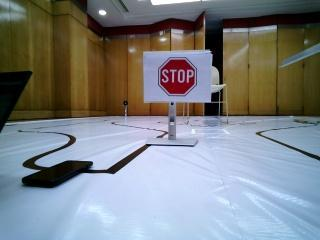stop: (148, 55, 206, 99)
